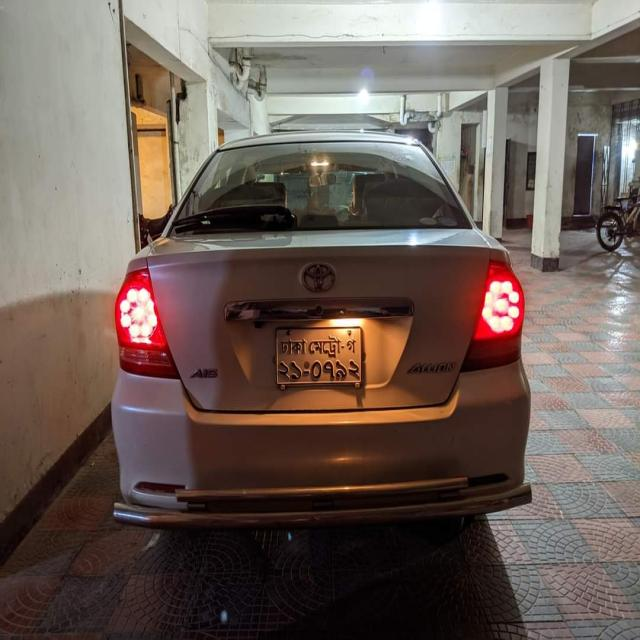white: (93, 104, 574, 514)
